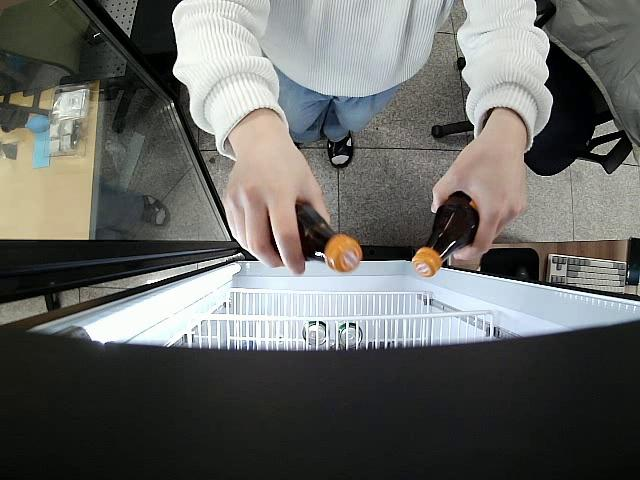00_hand: (221, 145, 331, 275), (430, 131, 524, 260)
17_vita500: (411, 192, 479, 279), (294, 199, 363, 273)
